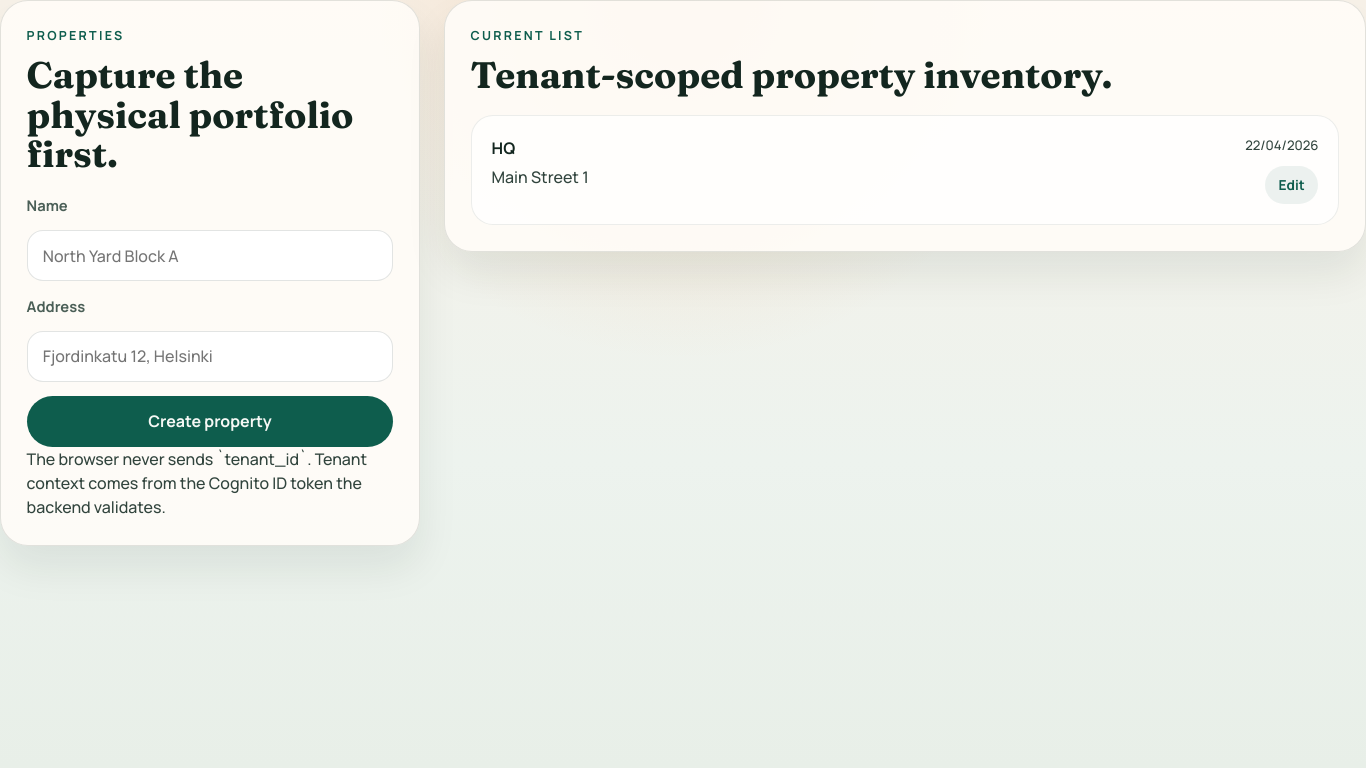
Scenario: PropertiesPage › cancels property edit mode without submitting
The image size is (1366, 768).
Click the button with aria-label "Edit HQ": (1292, 185) [1265,166,1318,204]
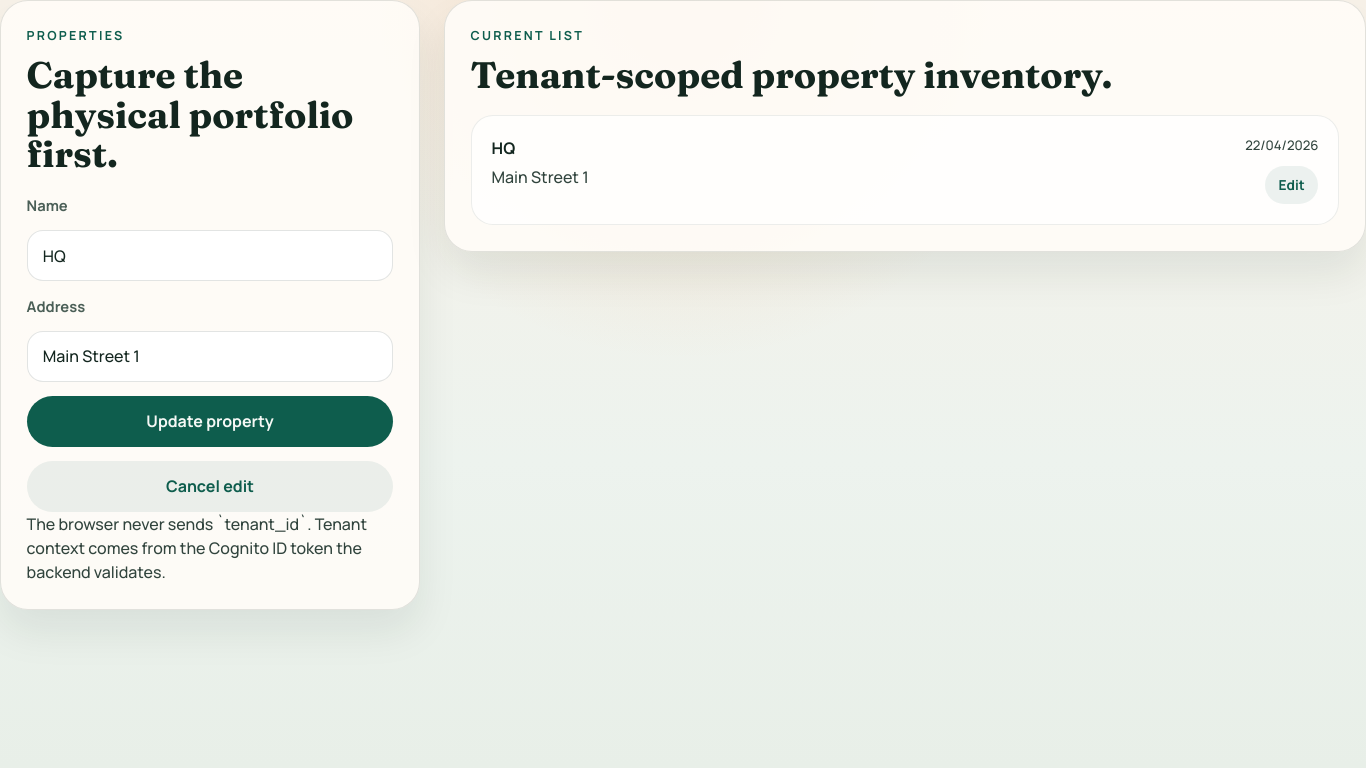
Click the button "Cancel edit": (210, 486) [27,461,393,512]
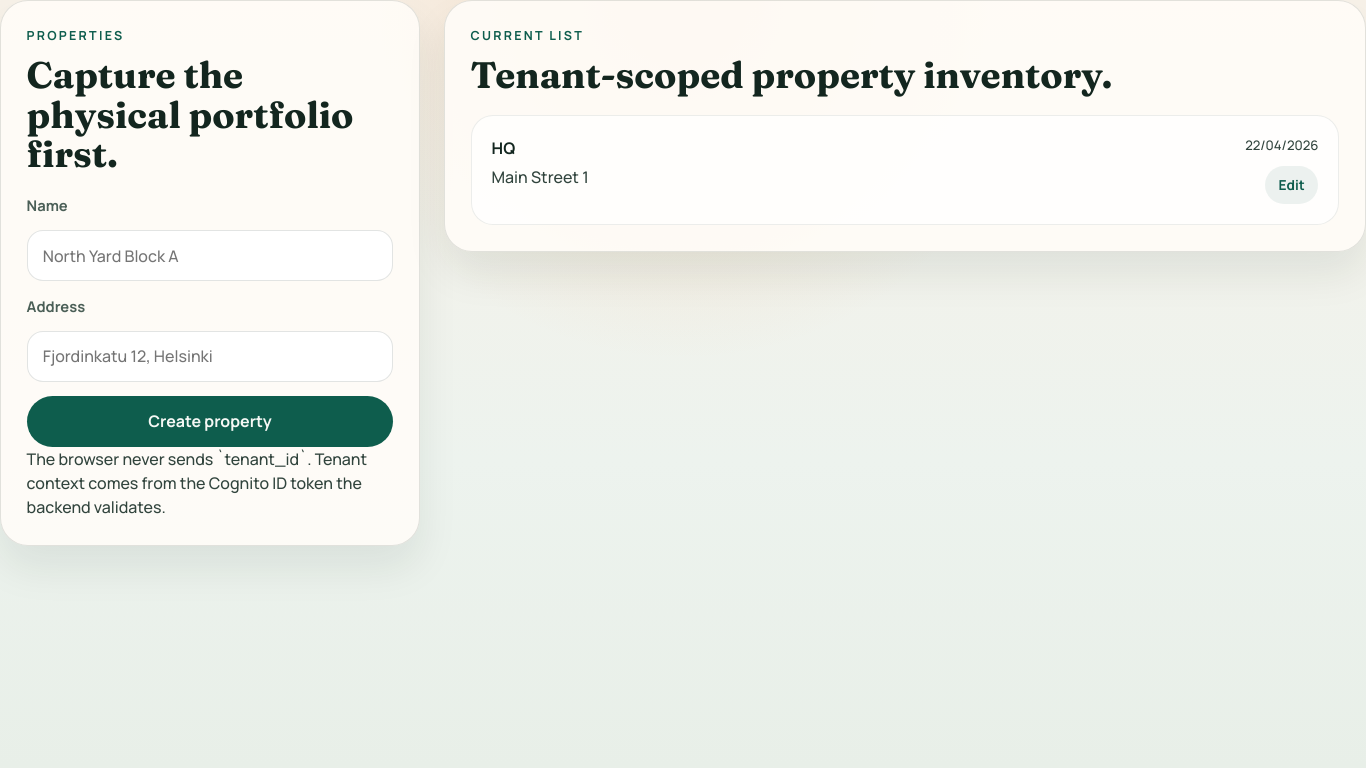
Expected: the button "Create property" is shown, [27,396,393,447]
Expected: the field labelled "Name" is empty, [27,230,393,281]
Expected: the field labelled "Address" is empty, [27,331,393,382]
